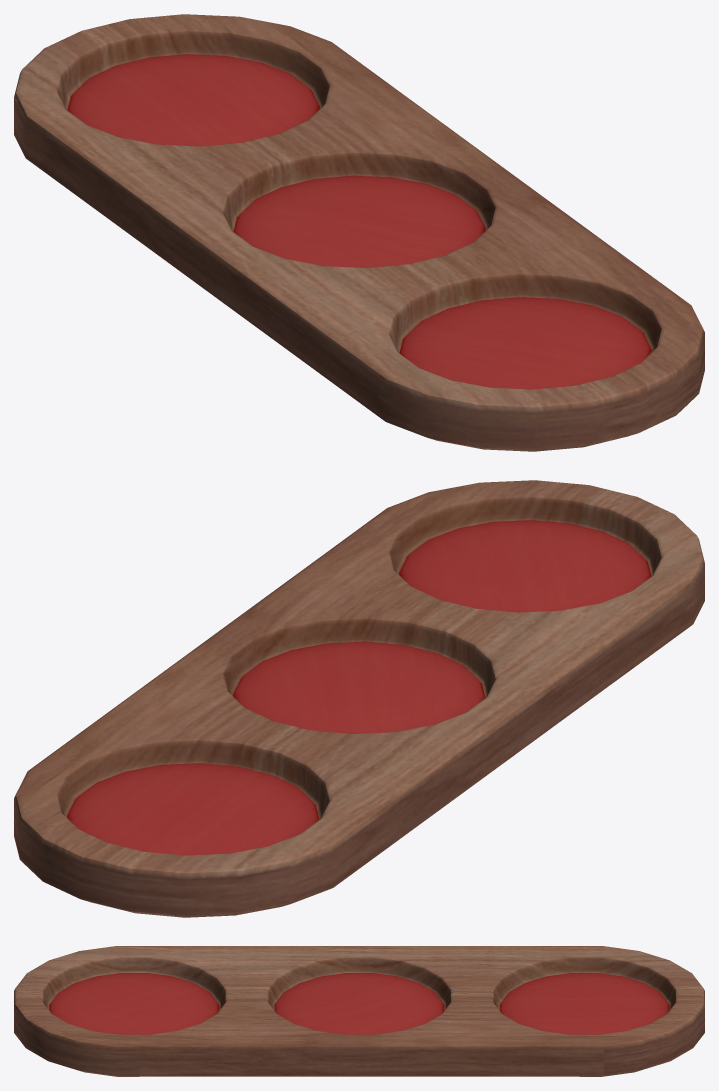
The model's file is YutNori_PieceBoxRed.fbx.
3 renders of one model, top to bottom at view 1: azimuth 30°, elevation 25°; view 2: azimuth 150°, elevation 25°; view 3: azimuth 270°, elevation 25°, orthographic. The views are drawn at different scales.
Parts seen in each view (by area): view 1: YutNori_PieceBoxRed; view 2: YutNori_PieceBoxRed; view 3: YutNori_PieceBoxRed.
Boxes of the visible parts, <box> form: YutNori_PieceBoxRed: <box>14,14,704,451</box>; YutNori_PieceBoxRed: <box>14,480,704,917</box>; YutNori_PieceBoxRed: <box>14,946,704,1076</box>.
Bounding box in the file's own units: 3.98 × 0.6524 × 11.43.
